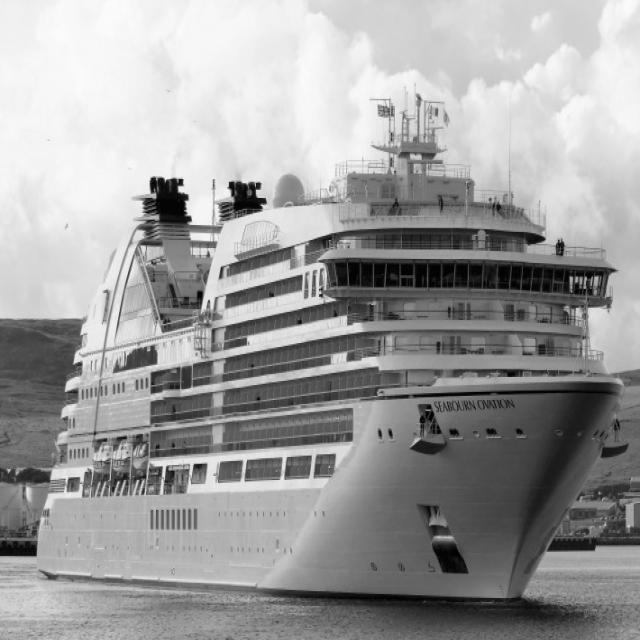cruises: (34, 91, 631, 615)
